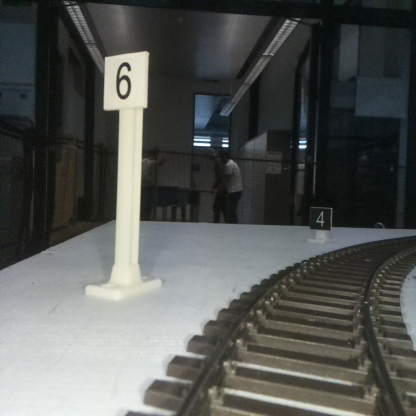black-stop-4: (310, 207, 331, 244)
white-info-6: (102, 50, 148, 293)
